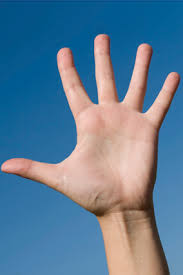palm: (1, 29, 183, 227)
